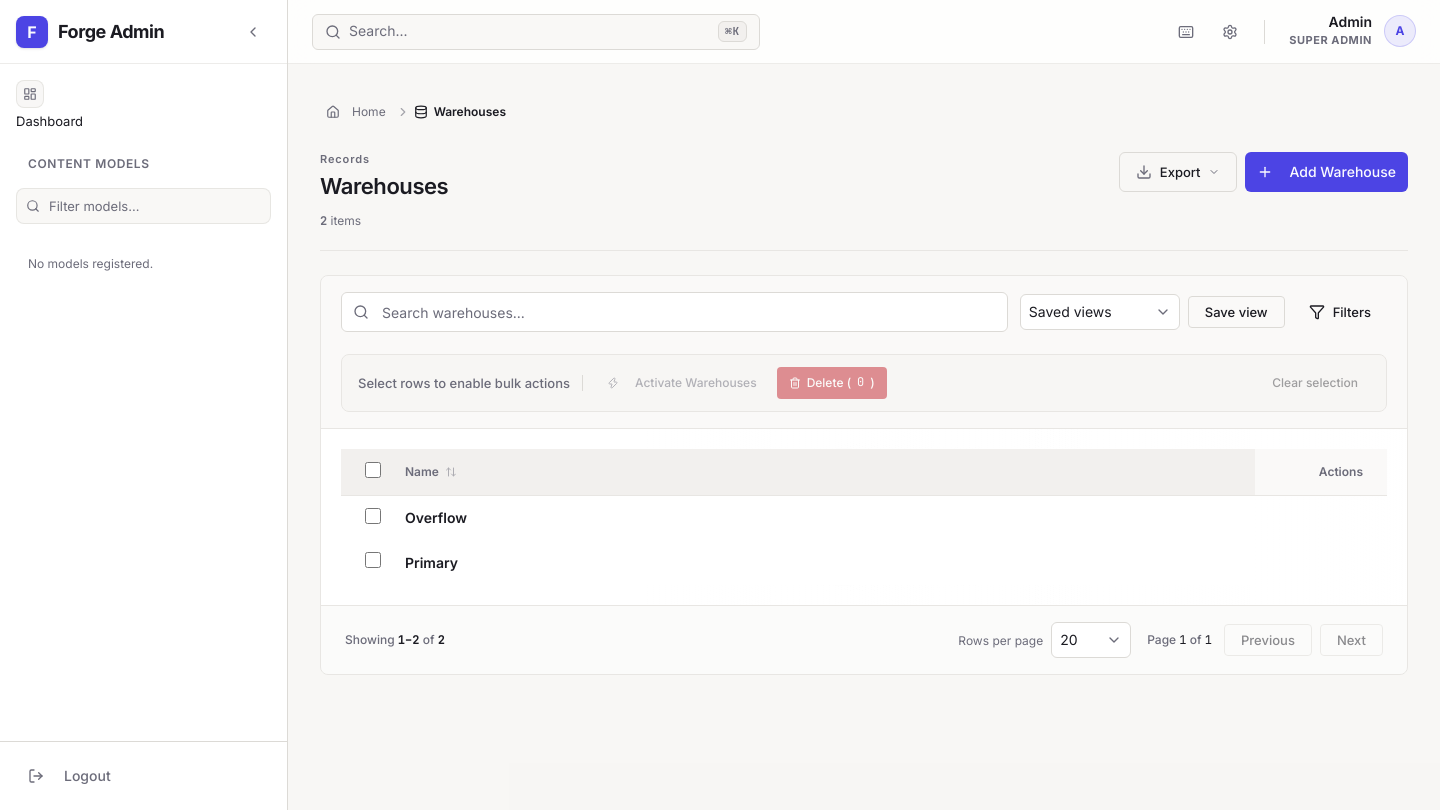
ModelListPage bulk action feedback › shows a success toast after an action completes
What coordinates should you click on to do the following:
click the checkbox with test id "select-3"
I would click on:
 (373, 516)
Its box is [365, 508, 381, 524].
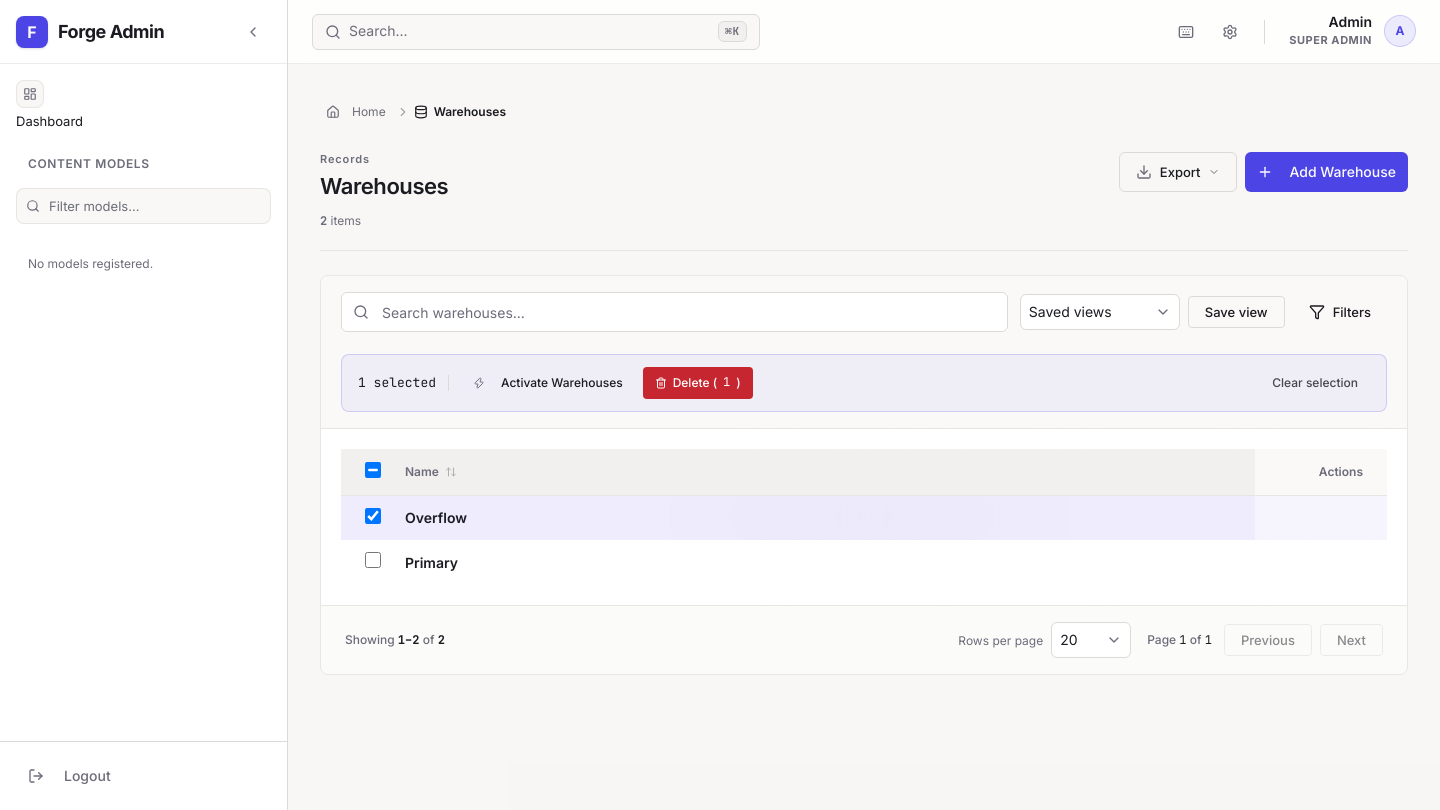
What coordinates should you click on to do the following:
click the button with test id "bulk-action-activate"
I would click on:
 (548, 383)
Its box is [461, 367, 635, 399].
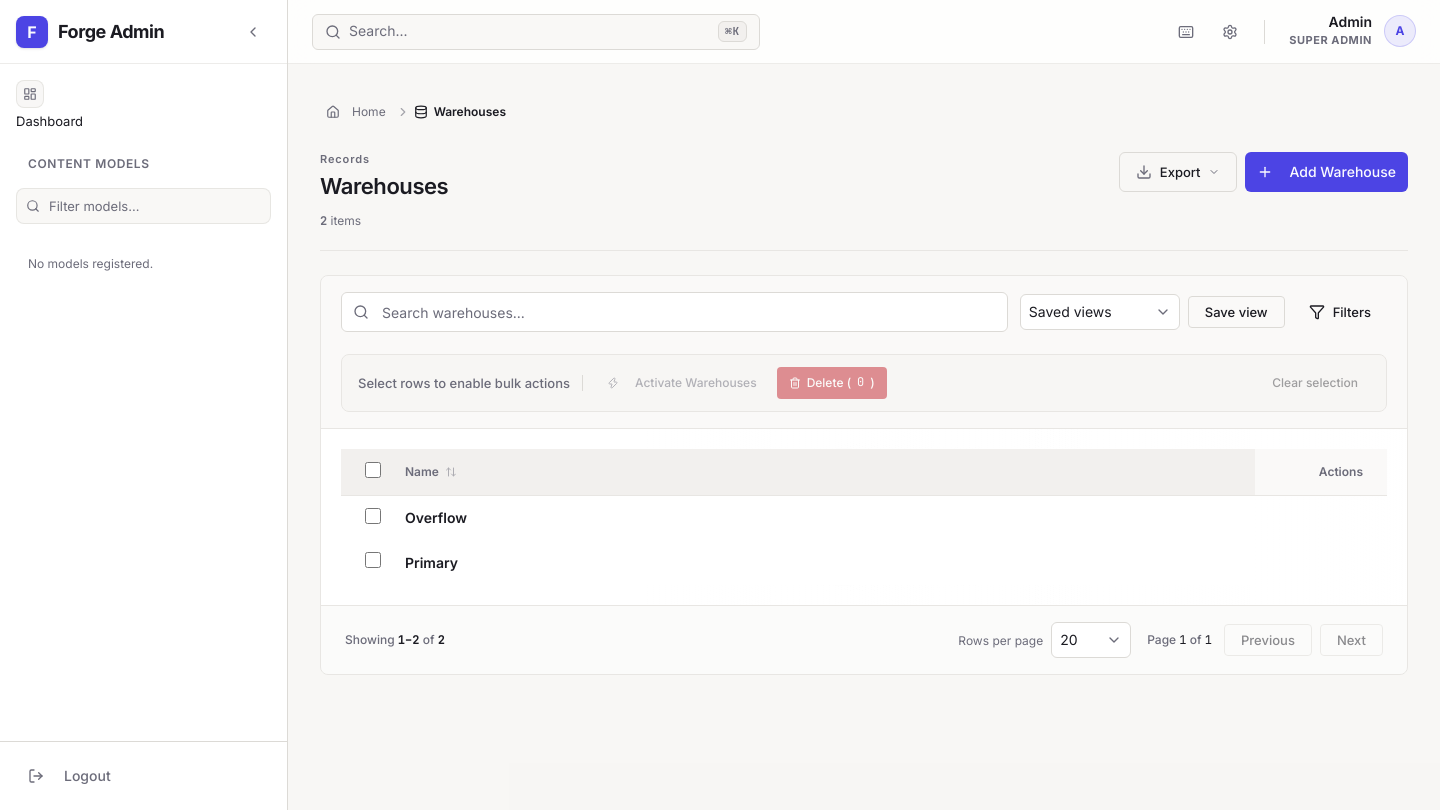
Result: the text "Select rows to enable bulk actions" is shown at [358, 374, 570, 393]
